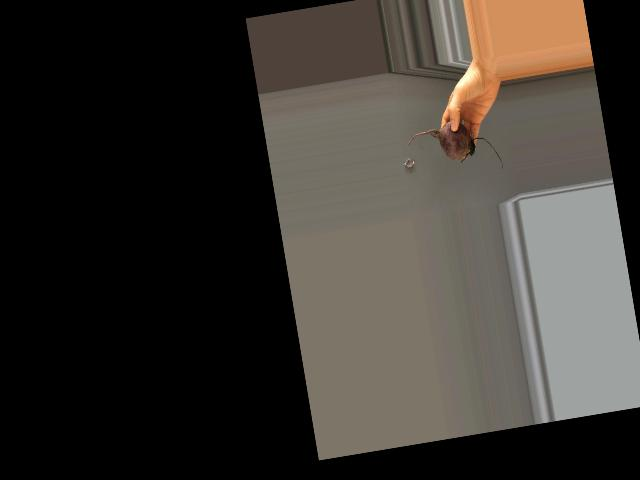beet: (405, 113, 503, 184)
